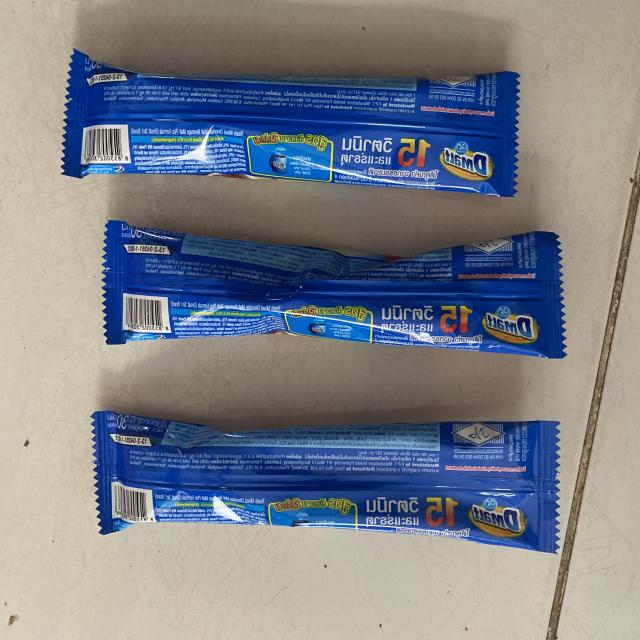plastik: (93, 411, 558, 553), (63, 52, 519, 196), (104, 221, 565, 358)
